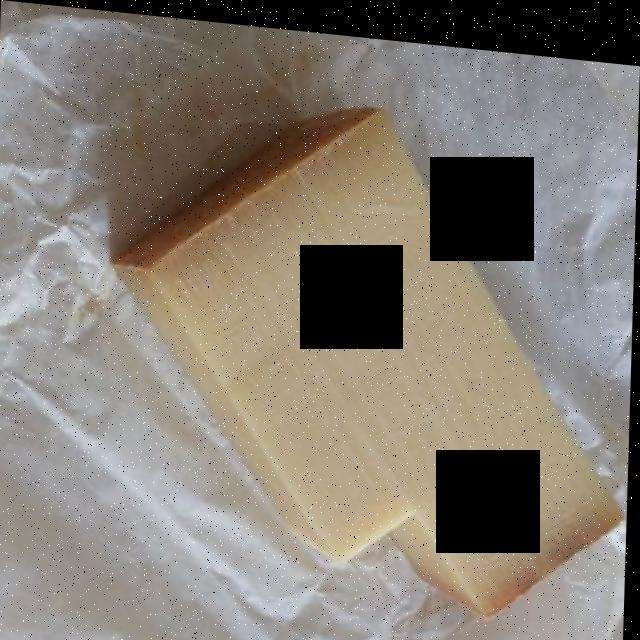hard-cheese: (125, 106, 613, 601)
